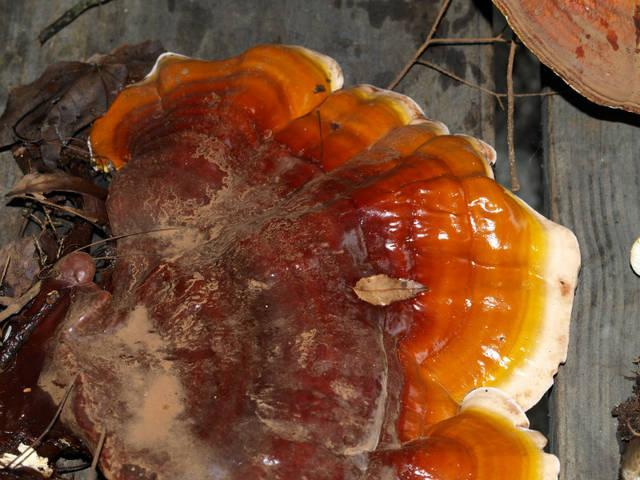poisonous_mushroom: (37, 42, 582, 478)
